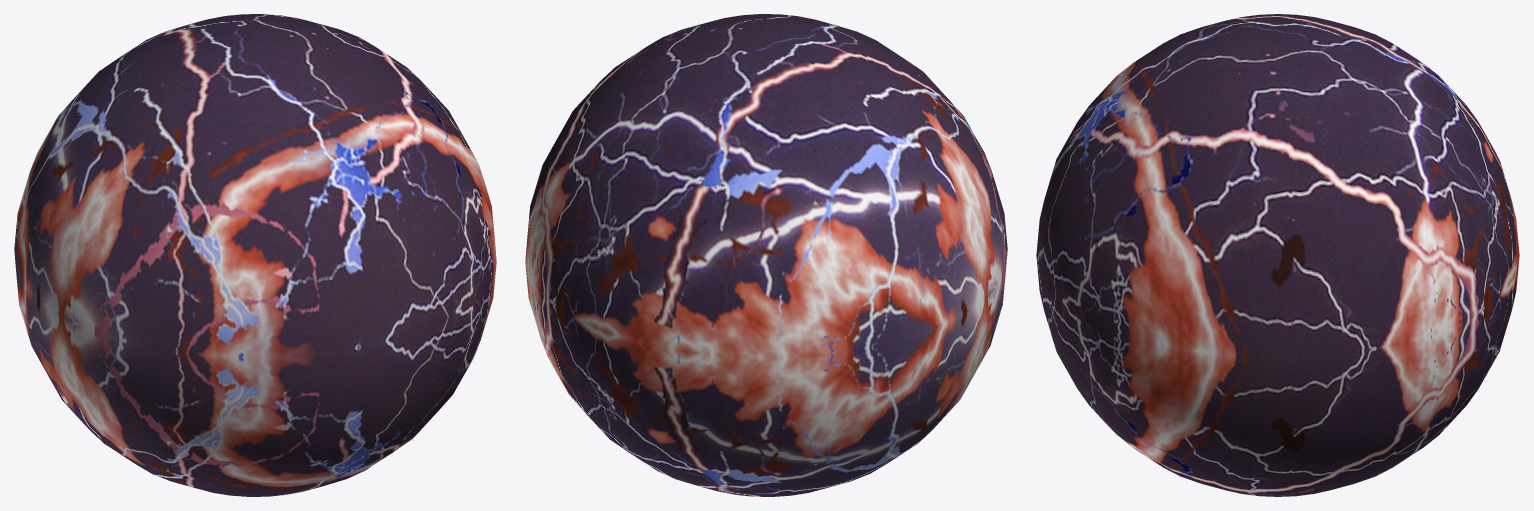
File: Plasma_ planet_2.FBX
3 renders of one model, left to right at view 1: azimuth 30°, elevation 25°; view 2: azimuth 150°, elevation 25°; view 3: azimuth 270°, elevation 25°, orthographic.
Visible parts, largest first — view 1: Plasma_planet_2; view 2: Plasma_planet_2; view 3: Plasma_planet_2.
Part boxes in pixels (x1,y1,x2,y2): Plasma_planet_2: (14,14,496,496); Plasma_planet_2: (525,14,1007,496); Plasma_planet_2: (1036,14,1519,496).
Bounding box in the file's own units: 69.73 × 69.73 × 69.73.
